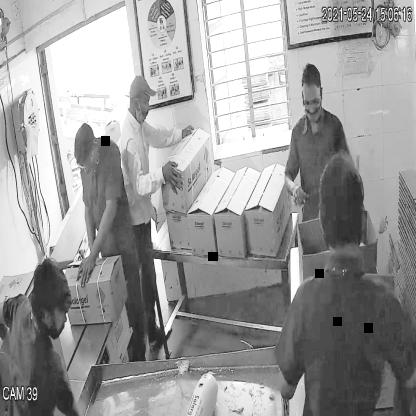goggles: (299, 86, 324, 108)
no_goggles: (132, 94, 151, 113)
